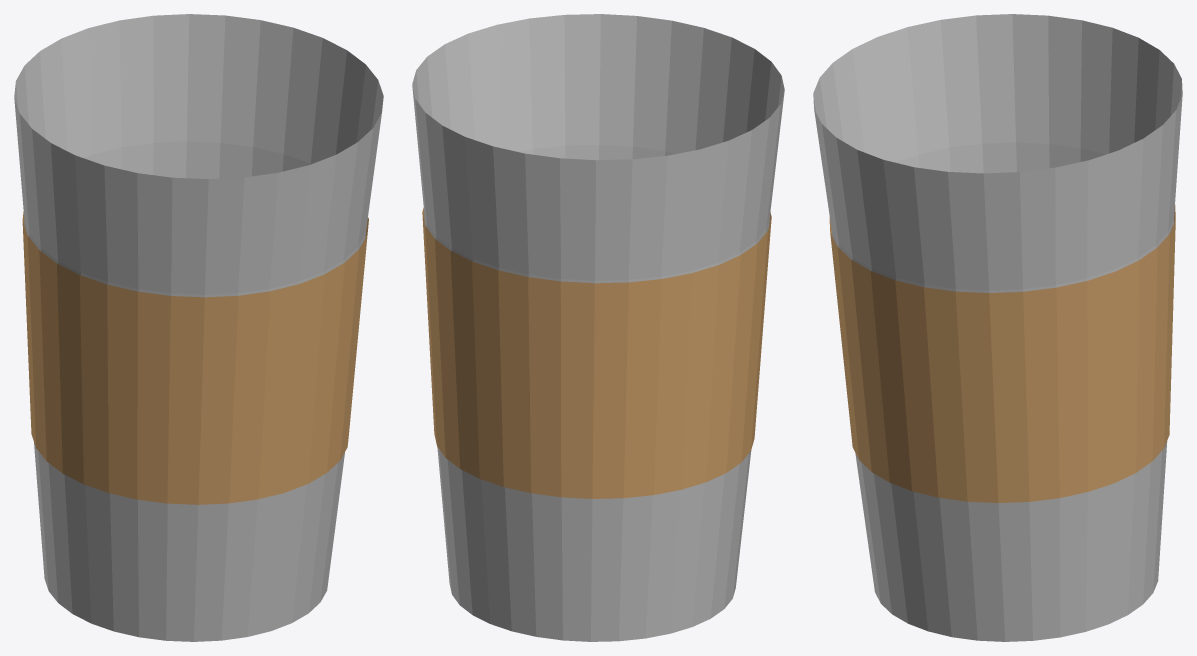
File: coffee_low_outside.fbx
3 views of the same model, side by side, from view 1: azimuth 30°, elevation 25°; view 2: azimuth 150°, elevation 25°; view 3: azimuth 270°, elevation 25° (orthographic).
Visible parts, largest first — view 1: Circle, Circle.001; view 2: Circle, Circle.001; view 3: Circle, Circle.001.
Part boxes in pixels (box(x1,y1,x2,y2)): Circle: box(14, 14, 383, 641); Circle.001: box(22, 212, 368, 504); Circle: box(412, 14, 784, 641); Circle.001: box(422, 208, 771, 498); Circle: box(813, 14, 1182, 641); Circle.001: box(829, 205, 1175, 502).
Bounding box in the file's own units: 281 × 419 × 281.
